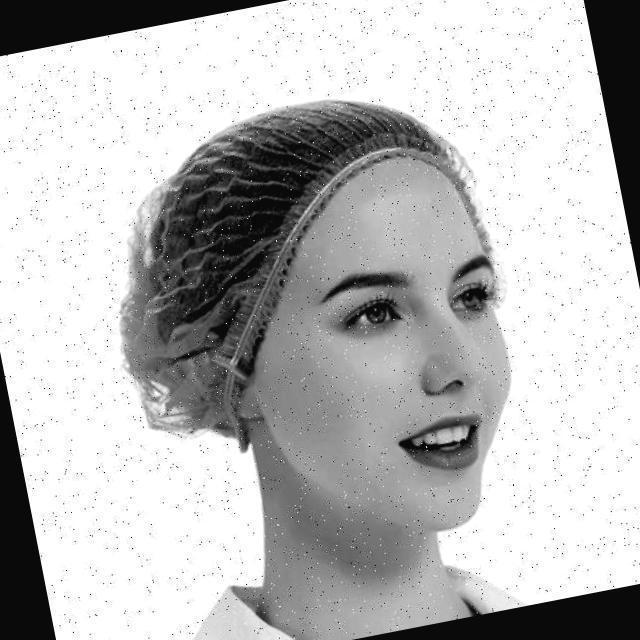gloves: (137, 98, 478, 260)
